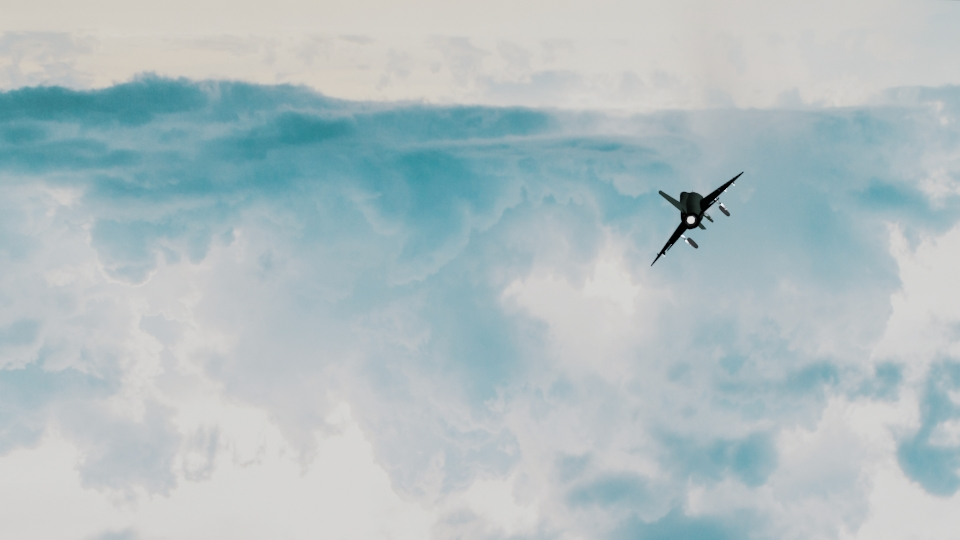plane: (641, 171, 741, 260)
